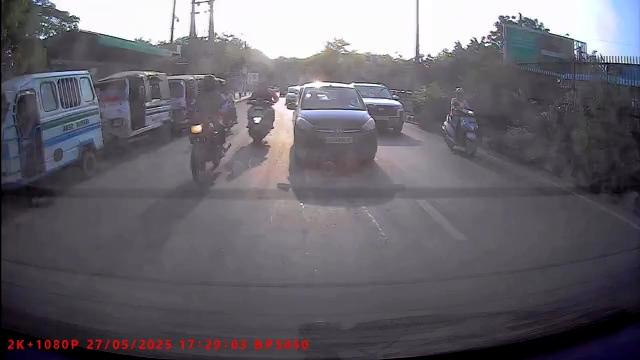motorcycle_with_helmet: (184, 74, 238, 185), (441, 85, 483, 160), (245, 79, 278, 143)
